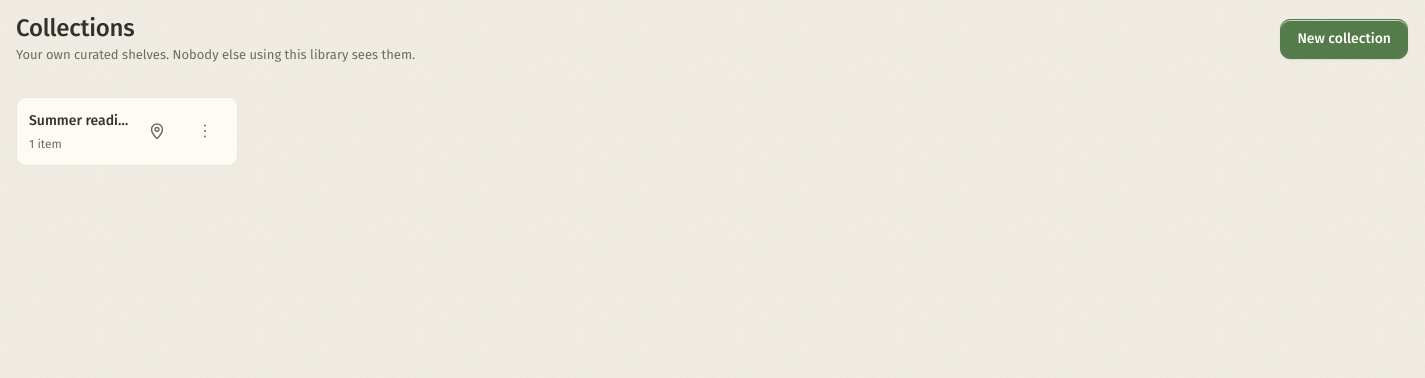
Test case: CollectionsPage › shows an empty state for a collection nothing is in yet
Expected: the list with test id "collections-grid" is shown, top-left (16, 96), bottom-right (238, 166)
Click the button with test id "open-collection-Summer reading".
click(79, 131)  # box top-left (29, 110), bottom-right (129, 152)
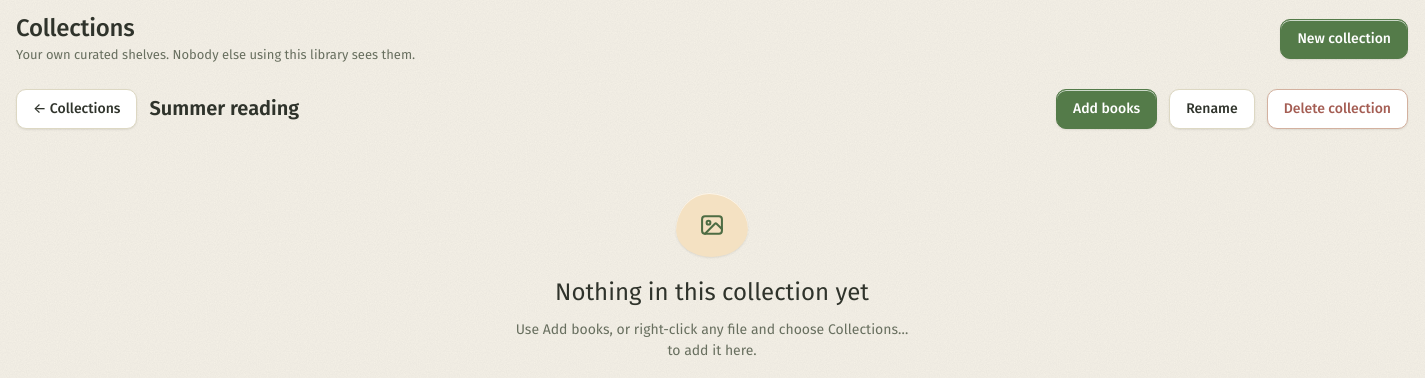
Expected: the element with test id "collection-files-empty" is shown, top-left (492, 192), bottom-right (932, 362)
